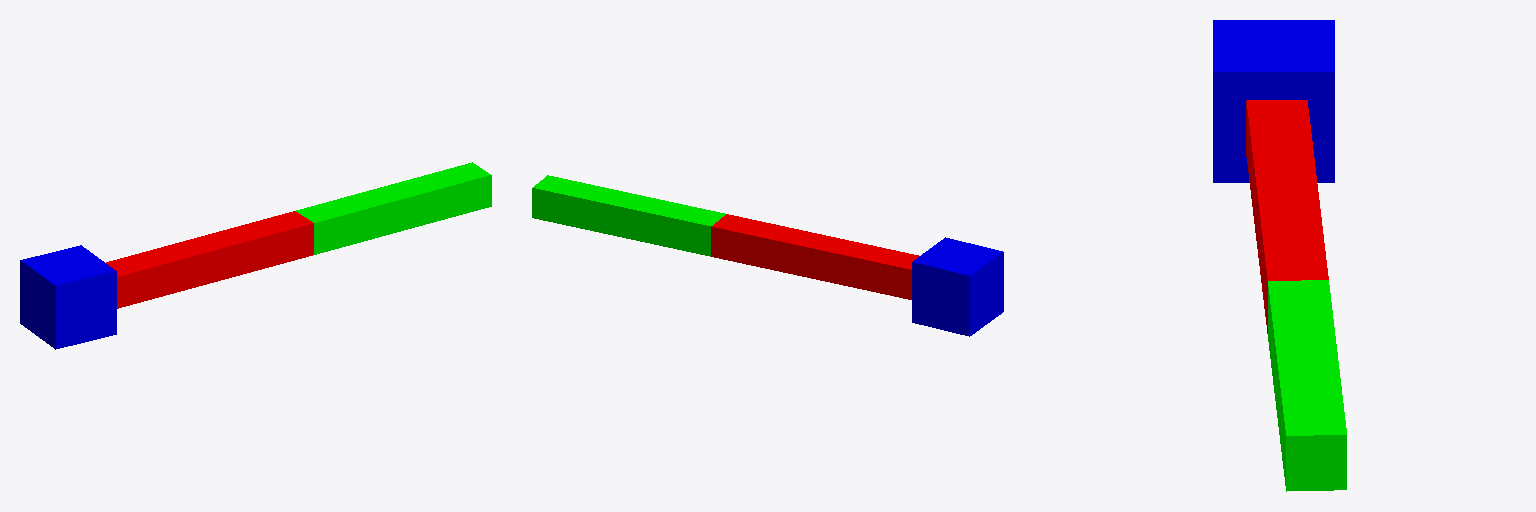
The robot description file, URDF, robot "two_links":
<?xml version="1.0" ?>
<robot name="two_links">
  <material name="red">
    <color rgba="1 0 0 1"/>
  </material>
  <material name="blue">
    <color rgba="0 0 1 1"/>
  </material>
  <material name="green">
    <color rgba="0 1 0 1"/>
  </material>
  <gazebo reference="base_link">
    <static>true</static>
    <material>Gazebo/Blue</material>
  </gazebo>
  <gazebo reference="link1">
    <material>Gazebo/Red</material>
  </gazebo>
  <gazebo reference="link2">
    <material>Gazebo/Green</material>
  </gazebo>
  <link name="base_link">
    <origin rpy="0 0 0" xyz="0 0 0"/>
    <inertial>
      <mass value="10.0"/>
      <inertia ixx="0.1" iyy="0.1" izz="0.1" ixy="0.0" ixz="0.0" iyz="0.0"/>
    </inertial>
    <visual>
      <geometry>
        <box size="0.1 0.1 0.1"/>
      </geometry>
      <material name="blue"/>
    </visual>
    <collision>
      <geometry>
        <box size="0.1 0.1 0.1"/>
      </geometry>
    </collision>
  </link>
  <link name="link1">
    <origin rpy="0 0 0" xyz="0 0 0"/>
    <inertial>
      <mass value="0.5"/>
      <inertia ixx="0.01" iyy="0.01" izz="0.01" ixy="0.0" ixz="0.0" iyz="0.0"/>
    </inertial>
    <visual>
      <geometry>
        <box size="0.4 0.05 0.05"/>
      </geometry>
      <origin rpy="0 0 0" xyz="0.2 0 0"/>
      <material name="red"/>
    </visual>
    <collision>
      <geometry>
        <box size="0.4 0.05 0.05"/>
      </geometry>
      <origin rpy="0 0 0" xyz="0.2 0 0"/>
    </collision>
  </link>
  <link name="link2">
    <origin rpy="0 0 0" xyz="0.4 0.0 0"/>
    <inertial>
      <mass value="0.3"/>
      <inertia ixx="0.01" iyy="0.01" izz="0.01" ixy="0.0" ixz="0.0" iyz="0.0"/>
    </inertial>
    <visual>
      <geometry>
        <box size="0.3 0.05 0.05"/>
      </geometry>
      <origin rpy="0 0 0" xyz="0.15 0 0"/>
      <material name="green"/>
    </visual>
    <collision>
      <geometry>
        <box size="0.3 0.05 0.05"/>
      </geometry>
      <origin rpy="0 0 0" xyz="0.15 0 0"/>
    </collision>
  </link>

  <joint name="joint1" type="revolute">
    <parent link="base_link"/>
    <child link="link1"/>
    <origin rpy="0 0 0.05" xyz="0 0 0"/>
    <axis xyz="0 0 1"/>
    <limit effort="10" lower="-1.57" upper="1.57" velocity="1.0"/>
  </joint>
  <joint name="joint2" type="revolute">
    <parent link="link1"/>
    <child link="link2"/>
    <axis xyz="0 0 1"/>
    <limit effort="10" lower="-1.57" upper="1.57" velocity="1.0"/>
    <origin xyz="0.4 0 0"/>
  </joint>
  <ros2_control name="GazeboSystem" type="system">
    <hardware>
      <plugin>gazebo_ros2_control/GazeboSystem</plugin>
    </hardware>
    <joint name="joint1">
      <param name="pos_kp">10</param>
      <param name="pos_ki">1</param>
      <param name="pos_kd">2</param>
      <param name="pos_max_integral_error">10000</param>
      <param name="vel_kp">10</param>
      <param name="vel_ki">5</param>
      <param name="vel_kd">2</param>
      <param name="vel_max_integral_error">10000</param>
      <command_interface name="position"/>
      <command_interface name="velocity"/>

      <state_interface name="position">
        <param name="initial_value">0.0</param>
      </state_interface>
      <state_interface name="velocity"/>
      <state_interface name="effort"/>
    </joint>
    <joint name="joint2">
      <param name="pos_kp">10</param>
      <param name="pos_ki">1</param>
      <param name="pos_kd">2</param>
      <param name="pos_max_integral_error">10000</param>
      <param name="vel_kp">10</param>
      <param name="vel_ki">5</param>
      <param name="vel_kd">2</param>
      <param name="vel_max_integral_error">10000</param>
      <command_interface name="position"/>
      <command_interface name="velocity"/>

      <state_interface name="position">
        <param name="initial_value">0.0</param>
      </state_interface>
      <state_interface name="velocity"/>
      <state_interface name="effort"/>
    </joint>
  </ros2_control>

  <gazebo>
    <!-- The following plug-in publishes the joint states for joint1 and joint2 via the ROS topic /joint_states-->
  <plugin name="joint_state_publisher" filename="libgazebo_ros_joint_state_publisher.so">
    <ros>
      <namespace>/</namespace>
      <remapping>joint_states:=/joint_states</remapping>
    </ros>
    <update_rate>50.0</update_rate>
    <joint_name>joint1</joint_name>
    <joint_name>joint2</joint_name>
  </plugin>

  <plugin name="gazebo_ros2_control" filename="libgazebo_ros2_control.so" >
    <parameters>week_3/config/joints_controller.yaml</parameters>
  </plugin>
  </gazebo>
</robot>

--- Render facts (derived) ---
3 views of the same robot in one strip: view 1: azimuth 30°, elevation 25°; view 2: azimuth 150°, elevation 25°; view 3: azimuth 270°, elevation 25° (orthographic).
Model two_links with 3 links and 2 joints (2 revolute), rooted at base_link, posed all joints at 0.
Visible links, largest first — view 1: link1, link2, base_link; view 2: link1, link2, base_link; view 3: base_link, link2, link1.
Boxes of the visible links, box(x1,y1,x2,y2) form: link1: box(106, 211, 313, 308); link2: box(296, 162, 491, 254); base_link: box(20, 245, 116, 349); link1: box(711, 214, 918, 299); link2: box(532, 175, 725, 256); base_link: box(912, 237, 1003, 336); base_link: box(1213, 20, 1334, 182); link2: box(1268, 280, 1346, 491); link1: box(1246, 100, 1328, 333).
Bounding box of the posed robot: 0.7504 × 0.11 × 0.1 m (x, y, z).
Geometry: primitives only (box / cylinder / sphere), no mesh files.